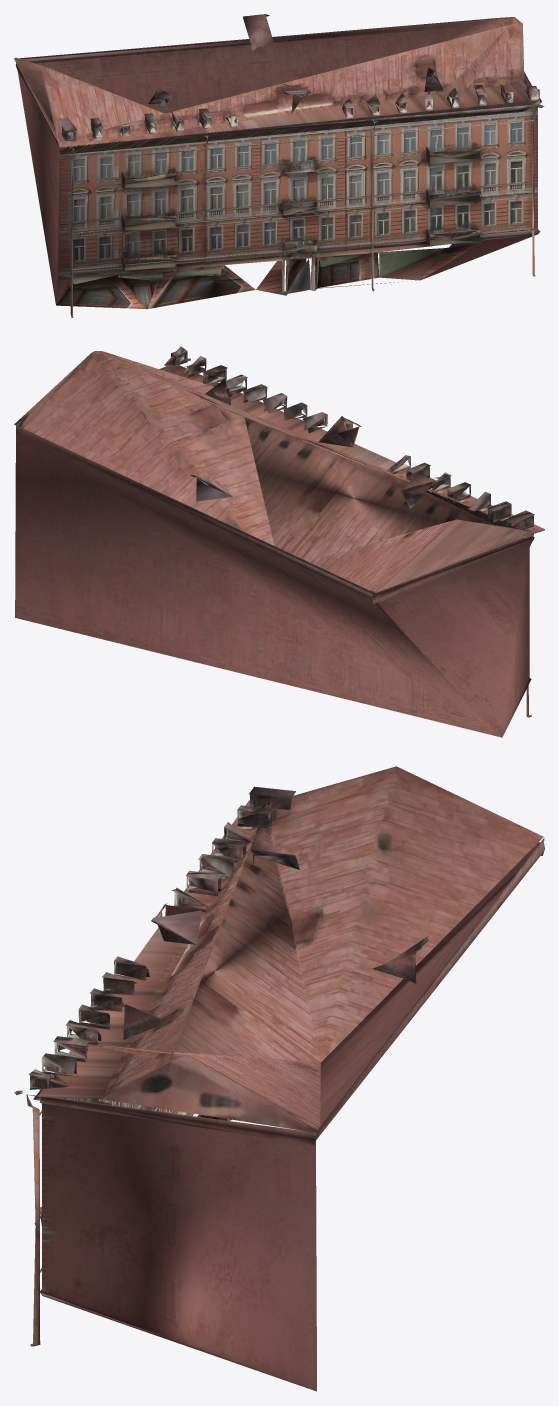
The model's file is spb_r7.glb.
3 views of the same model, one above another, from view 1: azimuth 30°, elevation 25°; view 2: azimuth 150°, elevation 25°; view 3: azimuth 270°, elevation 25° (orthographic). The views are drawn at different scales.
Parts seen in each view (by area): view 1: tripo_node_5e8a3ad3; view 2: tripo_node_5e8a3ad3; view 3: tripo_node_5e8a3ad3.
Boxes of the visible parts, x1=… form: tripo_node_5e8a3ad3: x1=14, y1=14, x2=544, y2=317; tripo_node_5e8a3ad3: x1=14, y1=346, x2=544, y2=737; tripo_node_5e8a3ad3: x1=14, y1=766, x2=544, y2=1391.
Bounding box in the file's own units: 0.994 × 0.4498 × 0.6718.
1 material, 1 textured.
